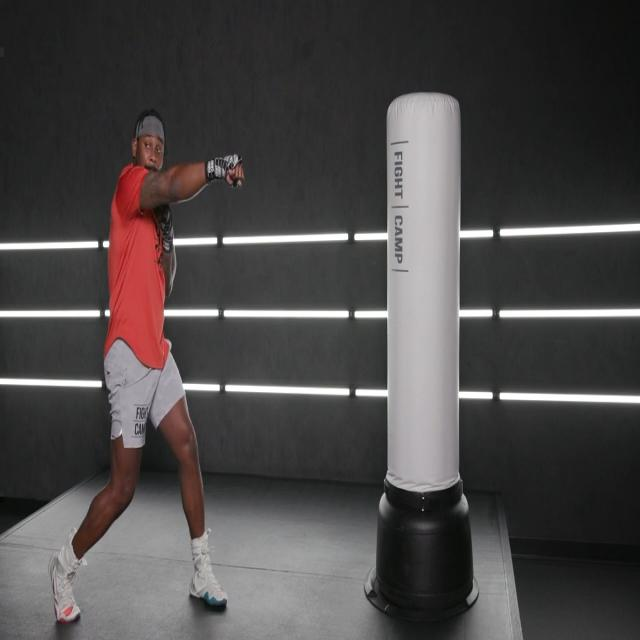Cross: (73, 140, 250, 626)
